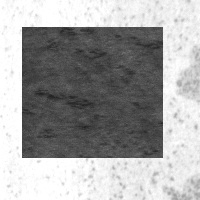pitted_surface: (60, 6, 198, 198), (2, 2, 50, 194)
rolled-in_scale: (22, 27, 163, 158)
